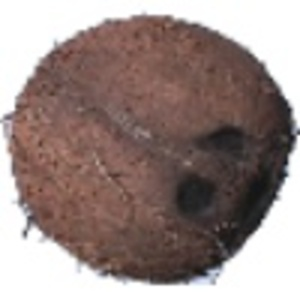coco: (5, 14, 300, 286)
